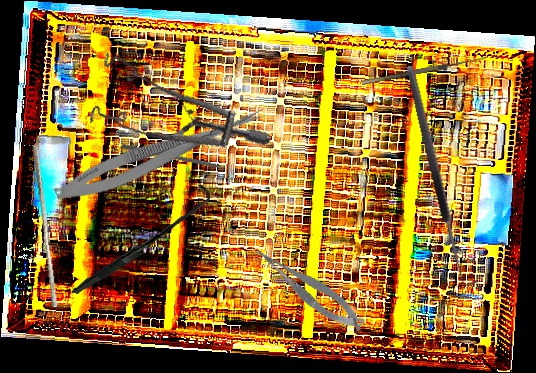Hook Surgical: (71, 174, 211, 305), (403, 62, 480, 288), (360, 49, 487, 86)
Micro Scissor: (50, 94, 271, 211), (249, 232, 370, 343)
Pusher: (25, 144, 64, 308), (121, 143, 239, 175)
Speculum: (78, 28, 272, 175)
